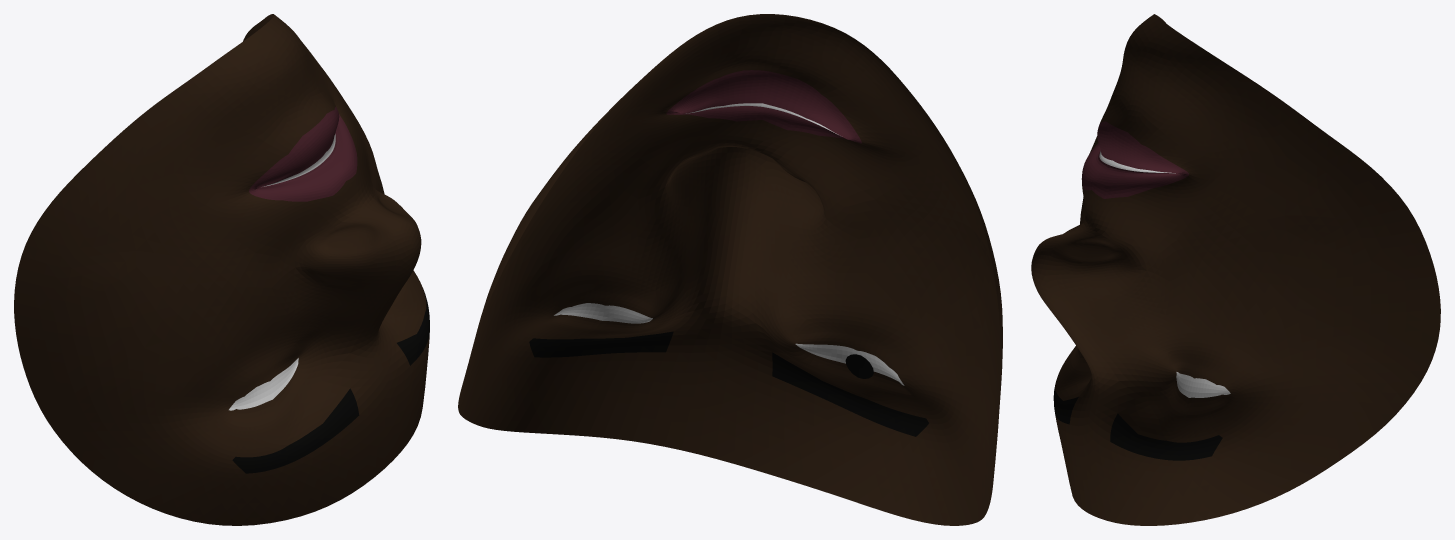
File: frame_00013.obj
The picture shows the model from 3 angles, left to right: view 1: azimuth 30°, elevation 25°; view 2: azimuth 150°, elevation 25°; view 3: azimuth 270°, elevation 25°; orthographic projection. The views are drawn at different scales.
Visible parts, largest first — view 1: face_mesh_subdivided; view 2: face_mesh_subdivided; view 3: face_mesh_subdivided.
Part boxes in pixels (box(x1,y1,x2,y2)): face_mesh_subdivided: box(14, 14, 429, 525); face_mesh_subdivided: box(458, 14, 1002, 525); face_mesh_subdivided: box(1031, 14, 1440, 525).
Size of the model in its own units: 0.4791 by 0.5045 by 0.4077.
